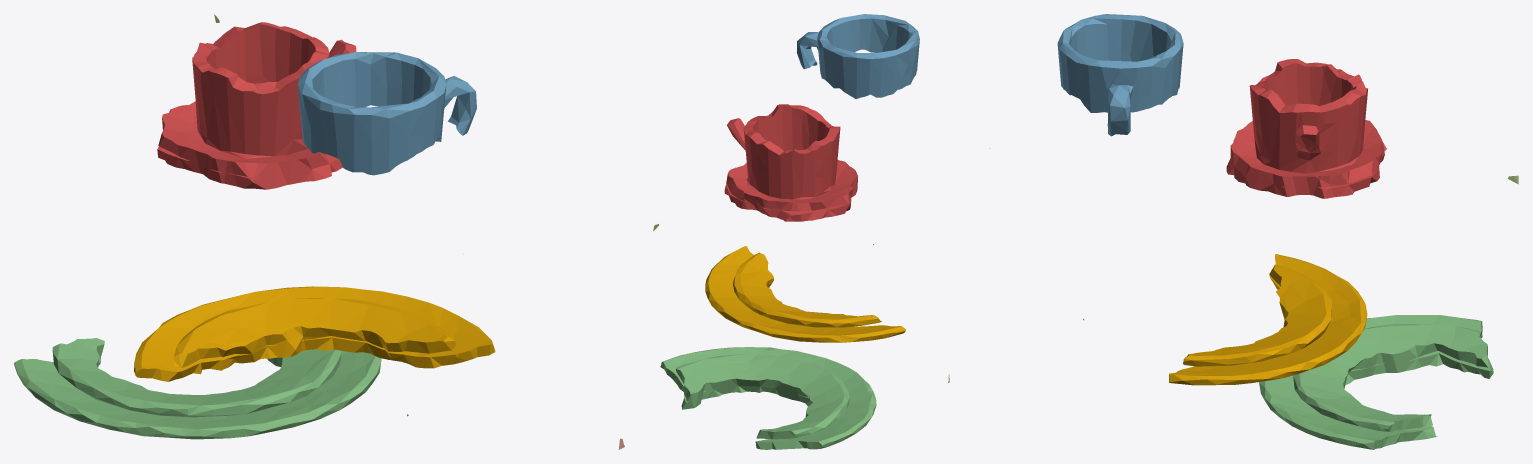
The model's file is mode_8_8pcs_transformed.glb.
3 views of the same model, side by side, from view 1: azimuth 30°, elevation 25°; view 2: azimuth 150°, elevation 25°; view 3: azimuth 270°, elevation 25° (orthographic). The views are drawn at different scales.
Visible parts, largest first — view 1: piece_0.obj, piece_1.obj, piece_3.obj, piece_2.obj; view 2: piece_3.obj, piece_1.obj, piece_0.obj, piece_2.obj; view 3: piece_1.obj, piece_3.obj, piece_0.obj, piece_2.obj.
Boxes of the visible parts, left/top/right/bottom form: piece_0.obj: left=134, top=286, right=495, bottom=381; piece_1.obj: left=157, top=22, right=356, bottom=189; piece_3.obj: left=14, top=338, right=381, bottom=439; piece_2.obj: left=297, top=52, right=476, bottom=175; piece_3.obj: left=660, top=347, right=876, bottom=449; piece_1.obj: left=724, top=104, right=857, bottom=221; piece_0.obj: left=705, top=246, right=905, bottom=342; piece_2.obj: left=796, top=14, right=919, bottom=98; piece_1.obj: left=1226, top=59, right=1386, bottom=198; piece_3.obj: left=1259, top=315, right=1493, bottom=449; piece_0.obj: left=1169, top=254, right=1367, bottom=385; piece_2.obj: left=1057, top=14, right=1183, bottom=136.
Size of the model in its own units: 0.9934 by 1.28 by 1.81.
